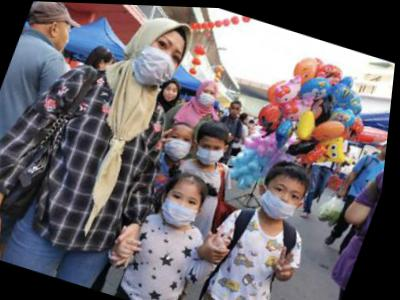NONE: (49, 18, 77, 54), (161, 78, 185, 103), (230, 101, 246, 117), (382, 138, 390, 159)
OK: (131, 26, 189, 90), (160, 183, 211, 231), (165, 126, 200, 162), (196, 136, 231, 168), (197, 82, 221, 107)
WRONG: (259, 175, 311, 220)
